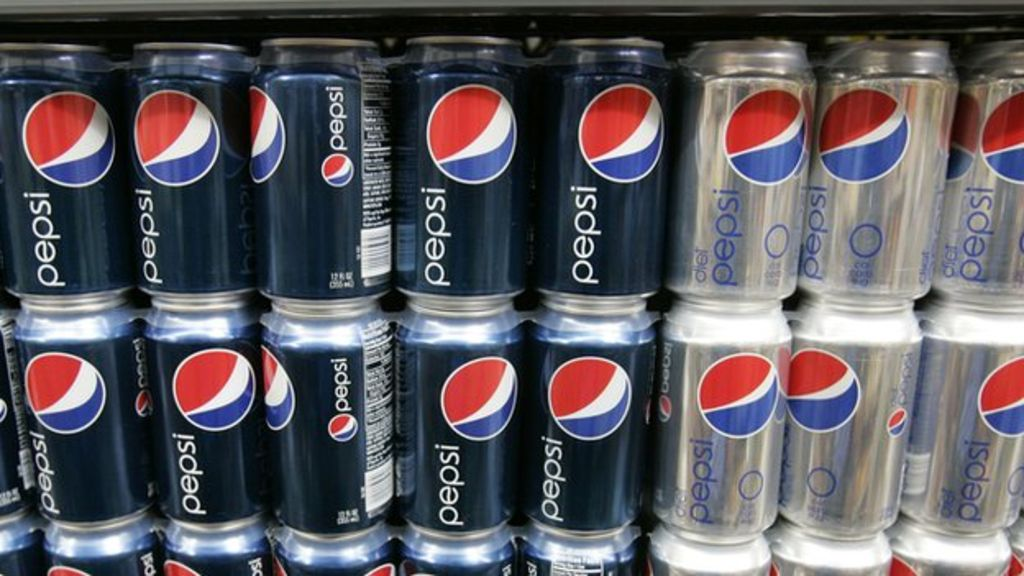pepsi: (21, 87, 112, 189), (427, 82, 516, 185), (821, 87, 911, 185), (134, 85, 221, 186), (578, 79, 664, 181), (723, 86, 806, 182), (694, 352, 780, 438), (544, 353, 628, 440), (698, 352, 780, 438), (20, 354, 104, 436), (437, 355, 517, 441), (172, 348, 255, 429), (785, 346, 858, 432), (791, 346, 858, 432), (977, 84, 1022, 184), (247, 84, 286, 182), (986, 84, 1022, 184), (980, 355, 1022, 438), (261, 341, 294, 429), (321, 148, 352, 186), (326, 410, 357, 441), (886, 406, 906, 435)
